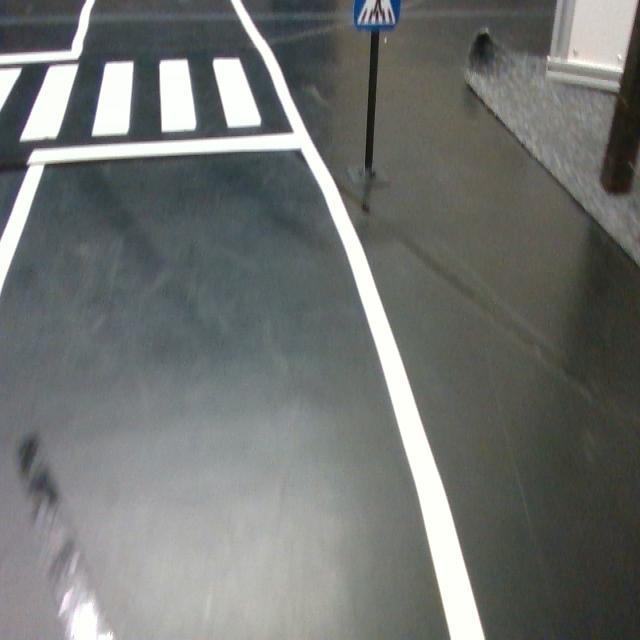crosswalk-sign: (353, 0, 401, 32)
